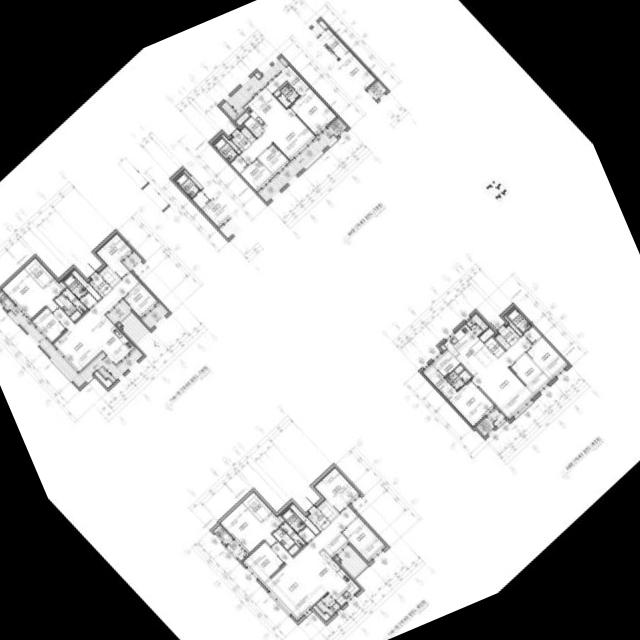background: (0, 0, 640, 640)
space_balconi: (8, 305, 143, 387), (259, 128, 336, 201), (221, 56, 287, 118), (121, 312, 149, 343), (339, 546, 367, 577), (142, 303, 168, 328), (316, 593, 340, 615), (466, 313, 488, 336), (108, 301, 130, 322), (227, 539, 247, 560), (124, 252, 142, 270), (487, 408, 505, 425)
space_bedroom: (2, 268, 64, 319), (220, 502, 282, 553), (290, 87, 336, 134), (314, 466, 360, 512), (449, 379, 495, 425), (341, 516, 386, 561), (526, 336, 568, 379), (243, 541, 284, 583), (510, 352, 550, 394), (96, 232, 132, 278), (123, 282, 158, 317), (32, 307, 66, 342), (240, 158, 273, 191), (258, 143, 289, 174)
space_dressroom: (266, 65, 310, 95), (423, 364, 457, 399), (24, 257, 54, 287), (243, 491, 272, 521)
space_front: (89, 272, 113, 296), (307, 507, 331, 530), (231, 131, 252, 151), (500, 325, 520, 345)
space_kitchen: (305, 549, 359, 605), (444, 323, 498, 375), (87, 315, 134, 363), (244, 87, 286, 130)
space_living_room: (264, 505, 358, 619), (52, 271, 140, 373), (472, 334, 534, 418), (240, 107, 315, 164)
space_other: (290, 503, 320, 534), (72, 269, 101, 300), (432, 349, 460, 377), (323, 532, 349, 557), (99, 265, 120, 286), (317, 499, 338, 520), (244, 116, 264, 137), (485, 336, 505, 356), (222, 134, 241, 153), (504, 315, 522, 335), (312, 604, 331, 621), (94, 370, 112, 387), (80, 292, 97, 309), (231, 155, 248, 172), (298, 526, 315, 543), (524, 326, 541, 343), (240, 126, 255, 142), (495, 333, 510, 349), (479, 327, 494, 342), (274, 81, 287, 96), (236, 111, 249, 125), (70, 310, 81, 321), (454, 364, 464, 373), (277, 514, 284, 521), (59, 280, 66, 287), (441, 344, 446, 350), (117, 322, 121, 326), (335, 556, 339, 560)
space_outdoor_room: (213, 524, 232, 544), (476, 416, 495, 436), (328, 117, 347, 136), (0, 290, 14, 310)
space_toilet: (272, 521, 305, 555), (54, 287, 87, 315), (214, 136, 238, 161), (281, 507, 305, 532), (507, 307, 531, 332), (63, 273, 87, 298), (446, 369, 471, 390), (278, 83, 299, 107)
